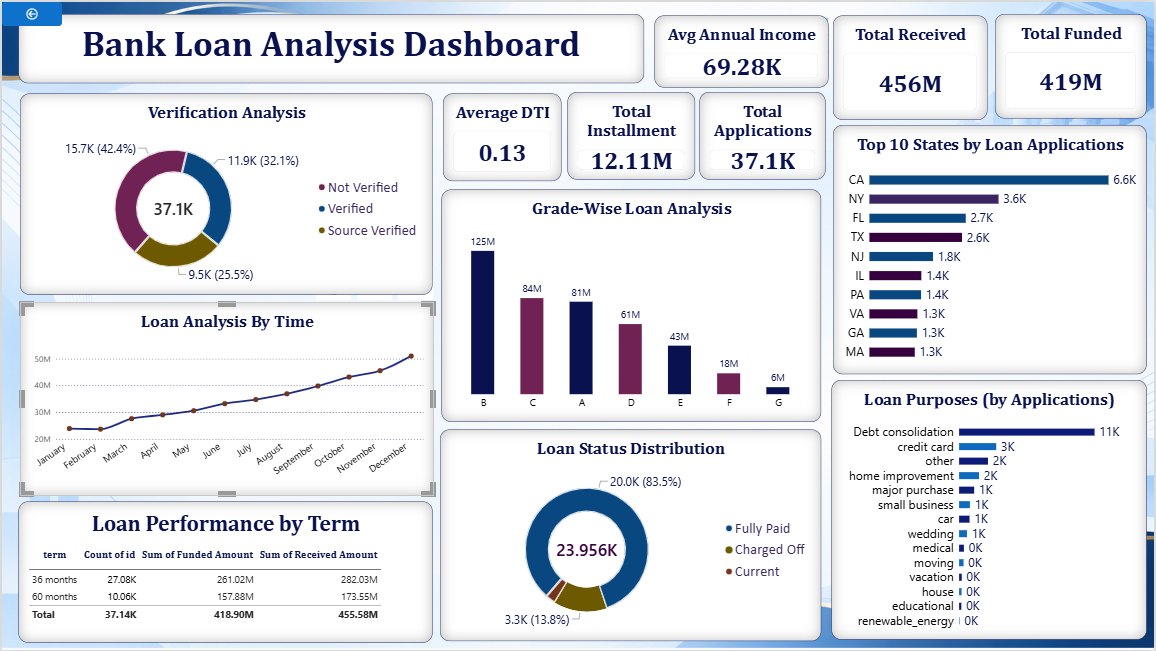

This screenshot's page, from the dashboard's own definition file:
{"tool":"powerbi","page":{"name":"Page 1","canvas":[1920,1080],"ordinal":0},"visuals":[{"type":"clusteredBarChart","title":"Top 10 States by Loan Applications","fields":{"Category":["bank_loan.address_state"],"Y":["CountNonNull(bank_loan.id)"]},"box":[1385,205,522.5,415],"z":0},{"type":"donutChart","title":"Loan Status Distribution","fields":{"Category":["bank_loan.loan_status"],"Y":["CountNonNull(bank_loan.id)"]},"box":[730,712.5,635,352.5],"z":1000},{"type":"clusteredBarChart","title":"Loan Purposes (by Applications)","fields":{"Category":["bank_loan.purpose"],"Y":["CountNonNull(bank_loan.id)"]},"box":[1382.5,630,525,432.5],"z":2000},{"type":"cardVisual","title":"Total Applications","fields":{"Data":["CountNonNull(bank_loan.id)"]},"box":[1162.5,150,210,146],"z":3000},{"type":"cardVisual","title":"Total Funded","fields":{"Data":["Sum(bank_loan.loan_amount)"]},"box":[1655,20,252.5,174],"z":4000},{"type":"cardVisual","title":"Total Received","fields":{"Data":["Sum(bank_loan.total_payment)"]},"box":[1385,22.5,257.5,174],"z":5000},{"type":"lineChart","title":"Loan Analysis By Time","fields":{"Category":["bank_loan.issue_date.Variation.Date Hierarchy.Month"],"Y":["Sum(bank_loan.loan_amount)"]},"box":[30,500,690,322.5],"z":6000},{"type":"clusteredColumnChart","title":"Grade-Wise Loan Analysis","fields":{"Category":["bank_loan.grade"],"Y":["Sum(bank_loan.loan_amount)"]},"box":[732.5,312.5,632.5,387.5],"z":7000},{"type":"donutChart","title":"Verification Analysis","fields":{"Category":["bank_loan.verification_status"],"Y":["CountNonNull(bank_loan.id)"]},"box":[30,152.5,687.5,335],"z":8000},{"type":"textbox","box":[27.5,20,1042.5,115],"z":9000},{"type":"tableEx","title":"Loan Performance by Term","fields":{"Values":["bank_loan.term","CountNonNull(bank_loan.id)","Sum(bank_loan.loan_amount)","Sum(bank_loan.total_payment)"]},"box":[27.5,832.5,690,235],"z":10000},{"type":"actionButton","box":[0,0,100,40],"z":11000},{"type":"cardVisual","title":"Average DTI","fields":{"Data":["Avg(bank_loan.dti)"]},"box":[735,152.5,197.5,146],"z":11001},{"type":"cardVisual","title":"Total Installment","fields":{"Data":["Sum(bank_loan.installment)"]},"box":[942.5,150,212.5,146],"z":11002},{"type":"cardVisual","title":"Avg Annual Income","fields":{"Data":["Avg(bank_loan.annual_income)"]},"box":[1087.5,22.5,290,120],"z":11003}]}

Visuals, with their boxes in screenshot pixels (x1, y1, x2, y2), scaled from the page's 1920x1080 canvas onto the 1156x651 screenshot:
"Top 10 States by Loan Applications" clusteredBarChart: (x1=834, y1=124, x2=1148, y2=374)
"Loan Status Distribution" donutChart: (x1=440, y1=429, x2=822, y2=642)
"Loan Purposes (by Applications)" clusteredBarChart: (x1=832, y1=380, x2=1148, y2=640)
"Total Applications" cardVisual: (x1=700, y1=90, x2=826, y2=178)
"Total Funded" cardVisual: (x1=996, y1=12, x2=1148, y2=117)
"Total Received" cardVisual: (x1=834, y1=14, x2=989, y2=118)
"Loan Analysis By Time" lineChart: (x1=18, y1=301, x2=434, y2=496)
"Grade-Wise Loan Analysis" clusteredColumnChart: (x1=441, y1=188, x2=822, y2=422)
"Verification Analysis" donutChart: (x1=18, y1=92, x2=432, y2=294)
textbox: (x1=17, y1=12, x2=644, y2=81)
"Loan Performance by Term" tableEx: (x1=17, y1=502, x2=432, y2=643)
actionButton: (x1=0, y1=0, x2=60, y2=24)
"Average DTI" cardVisual: (x1=443, y1=92, x2=561, y2=180)
"Total Installment" cardVisual: (x1=567, y1=90, x2=695, y2=178)
"Avg Annual Income" cardVisual: (x1=655, y1=14, x2=829, y2=86)
